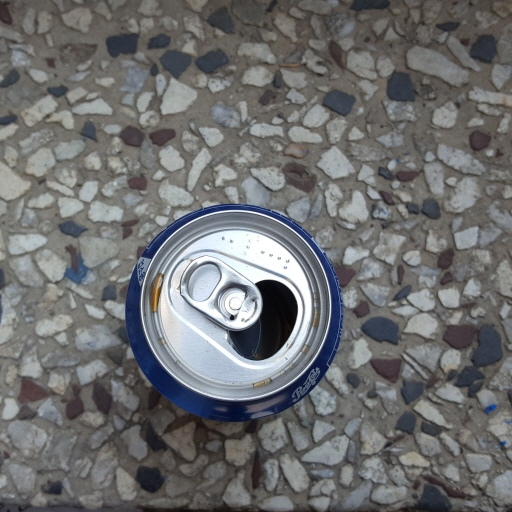Metal_0: (124, 202, 345, 424)
